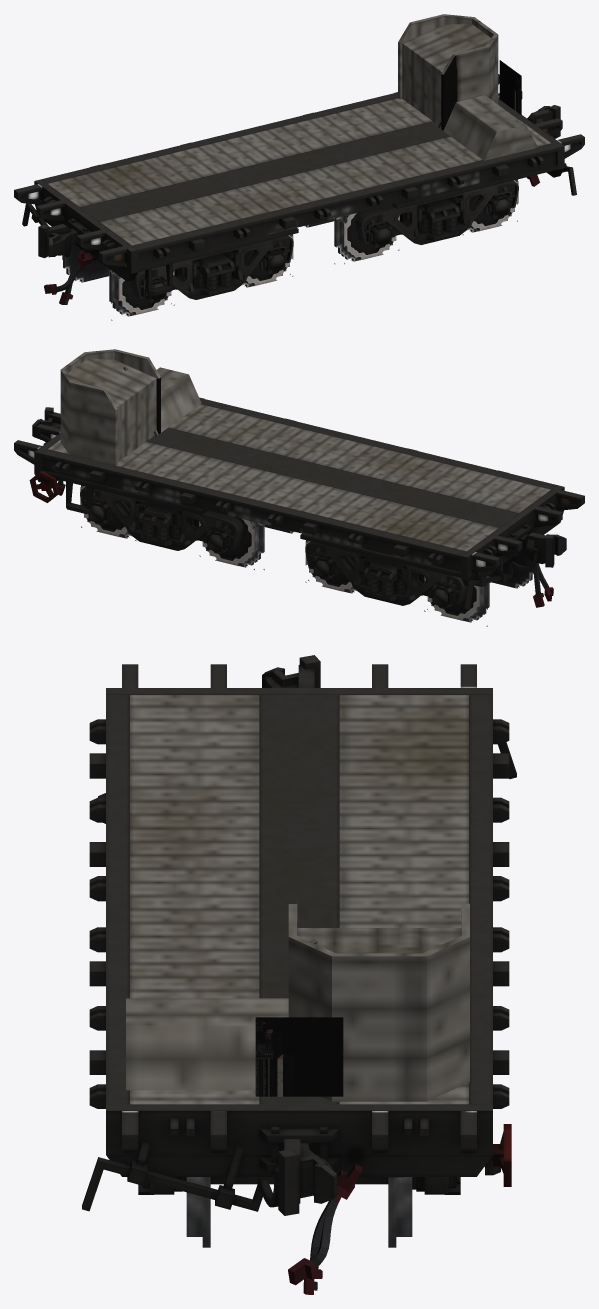
The model's file is irhl_tr_gept.obj.
3 views of the same model, one above another, from view 1: azimuth 30°, elevation 25°; view 2: azimuth 150°, elevation 25°; view 3: azimuth 270°, elevation 25° (orthographic). The views are drawn at different scales.
Visible parts, largest first — view 1: FRAME_gept, BOGEY_REAR_gept, BOGEY_FRONT_gept, BOGEY_FRONT_WHEEL_1_gept, BOGEY_REAR_WHEEL_1_gept, HEADLIGHT_1_0XFFF0CC_FULLBRIGHT_LCG_FHL_mvp_gept, BOGEY_FRONT_WHEEL_2_gept, BOGEY_REAR_WHEEL_2_gept; view 2: FRAME_gept, BOGEY_REAR_gept, BOGEY_FRONT_gept, BOGEY_FRONT_WHEEL_1_gept, BOGEY_REAR_WHEEL_1_gept, BOGEY_FRONT_WHEEL_2_gept, BOGEY_REAR_WHEEL_2_gept, COUPLER_ENGAGED_FRONT_1_TOGGLE_mvp_gept; view 3: FRAME_gept, HEADLIGHT_1_0XFFF0CC_FULLBRIGHT_LCG_FHL_mvp_gept, BOGEY_REAR_WHEEL_2_gept, COUPLER_ENGAGED_REAR_2_TOGGLE_mvp_gept, BOGEY_REAR_gept, COUPLED_REAR_1_HIDE_INVERT.
Part boxes in pixels (x1,y1,x2,y2): FRAME_gept: [14, 14, 584, 295]; BOGEY_REAR_gept: [355, 180, 518, 248]; BOGEY_FRONT_gept: [131, 235, 293, 303]; BOGEY_FRONT_WHEEL_1_gept: [62, 244, 174, 320]; BOGEY_REAR_WHEEL_1_gept: [304, 211, 399, 264]; HEADLIGHT_1_0XFFF0CC_FULLBRIGHT_LCG_FHL_mvp_gept: [499, 60, 521, 114]; BOGEY_FRONT_WHEEL_2_gept: [242, 234, 293, 287]; BOGEY_REAR_WHEEL_2_gept: [462, 179, 518, 235]; FRAME_gept: [14, 349, 584, 586]; BOGEY_REAR_gept: [80, 486, 243, 554]; BOGEY_FRONT_gept: [305, 541, 467, 609]; BOGEY_FRONT_WHEEL_1_gept: [424, 551, 534, 626]; BOGEY_REAR_WHEEL_1_gept: [199, 517, 294, 570]; BOGEY_FRONT_WHEEL_2_gept: [305, 540, 356, 593]; BOGEY_REAR_WHEEL_2_gept: [80, 485, 136, 540]; COUPLER_ENGAGED_FRONT_1_TOGGLE_mvp_gept: [464, 562, 513, 609]; FRAME_gept: [89, 655, 511, 1215]; HEADLIGHT_1_0XFFF0CC_FULLBRIGHT_LCG_FHL_mvp_gept: [255, 1017, 343, 1096]; BOGEY_REAR_WHEEL_2_gept: [182, 1177, 416, 1247]; COUPLER_ENGAGED_REAR_2_TOGGLE_mvp_gept: [82, 1157, 264, 1211]; BOGEY_REAR_gept: [138, 1177, 460, 1194]; COUPLED_REAR_1_HIDE_INVERT: [288, 1200, 338, 1285].
Bounding box in the file's own units: 9.26 × 2.74 × 3.37.
